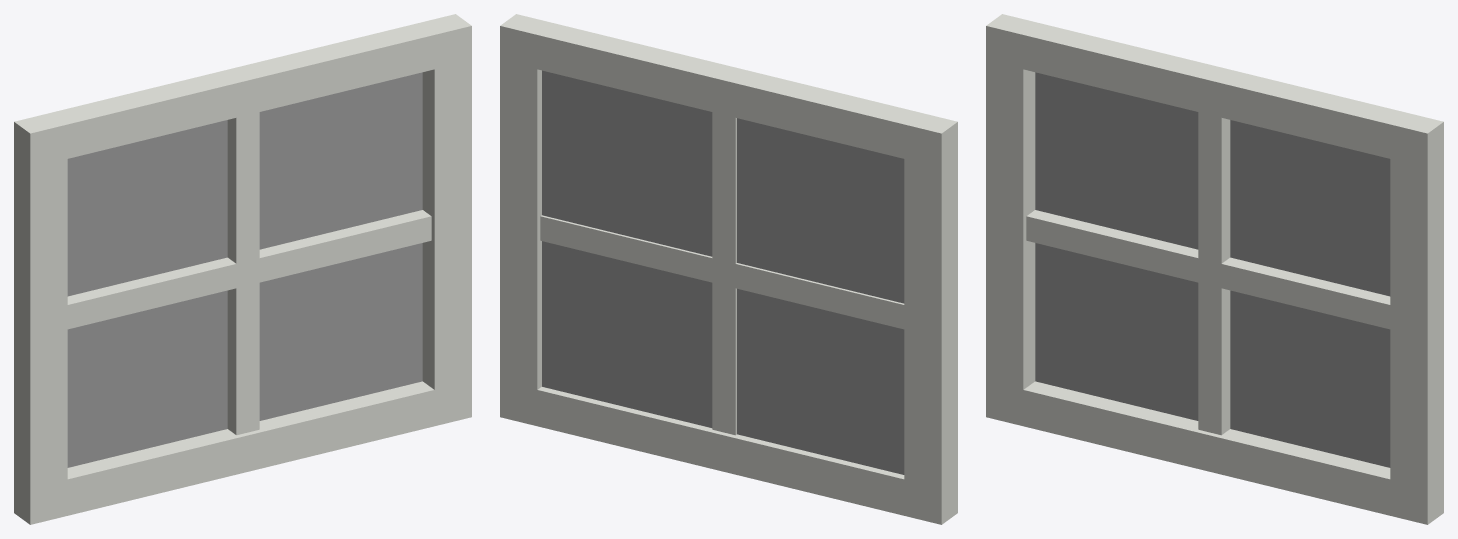
File: Window_2A.fbx
3 views of the same model, side by side, from view 1: azimuth 30°, elevation 25°; view 2: azimuth 150°, elevation 25°; view 3: azimuth 330°, elevation 25° (orthographic).
Parts seen in each view (by area): view 1: polySurface2310, Window_Glass3; view 2: Window_Glass3, polySurface2310; view 3: polySurface2310, Window_Glass3.
Part boxes in pixels (left/top/right/bottom): polySurface2310: left=14, top=14, right=471, bottom=524; Window_Glass3: left=67, top=72, right=422, bottom=467; Window_Glass3: left=542, top=70, right=904, bottom=474; polySurface2310: left=500, top=14, right=957, bottom=524; polySurface2310: left=986, top=14, right=1443, bottom=524; Window_Glass3: left=1035, top=72, right=1390, bottom=467.
Size of the model in its own units: 2.36 by 2 by 0.15.
2 materials, 1 textured.
